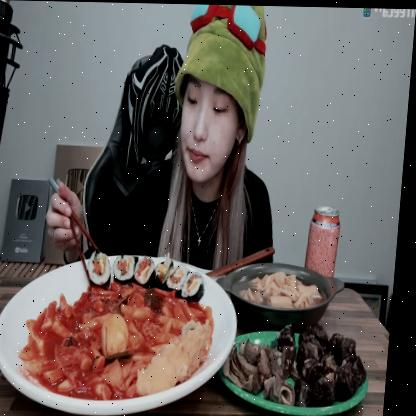streamer: (45, 1, 294, 279)
